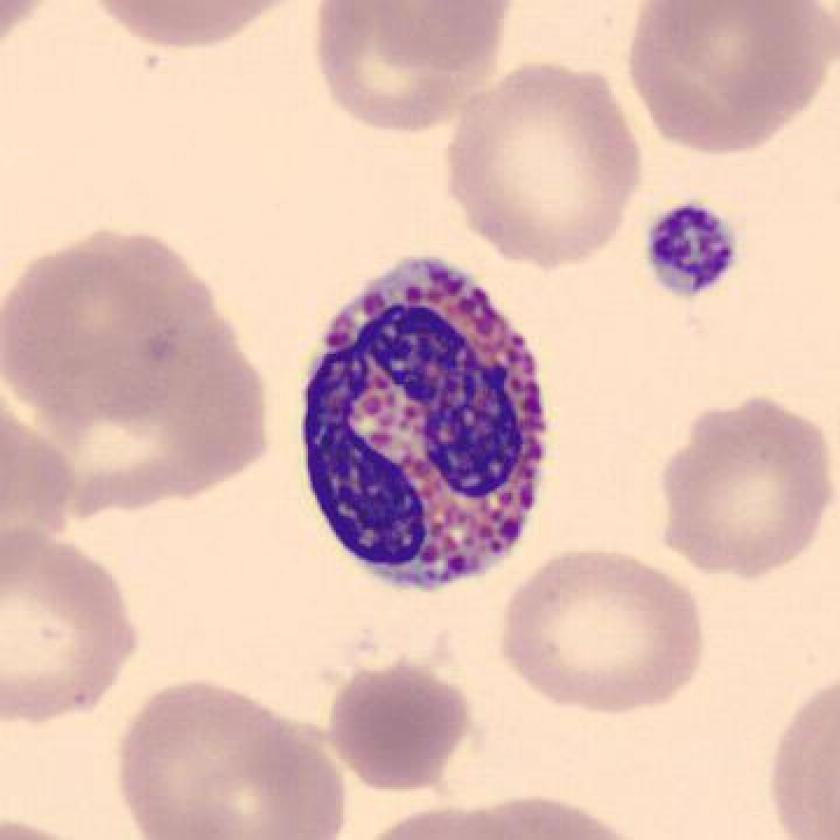eosinophil: (288, 242, 559, 607)
